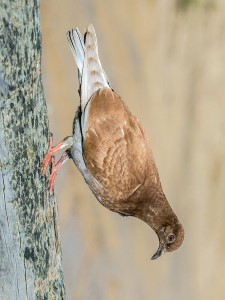pigeon: (37, 21, 187, 261)
